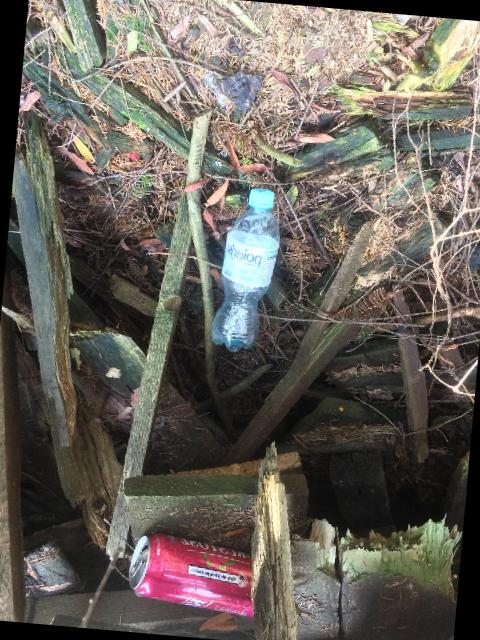metal: (128, 532, 252, 616)
plastic: (211, 187, 278, 350)
